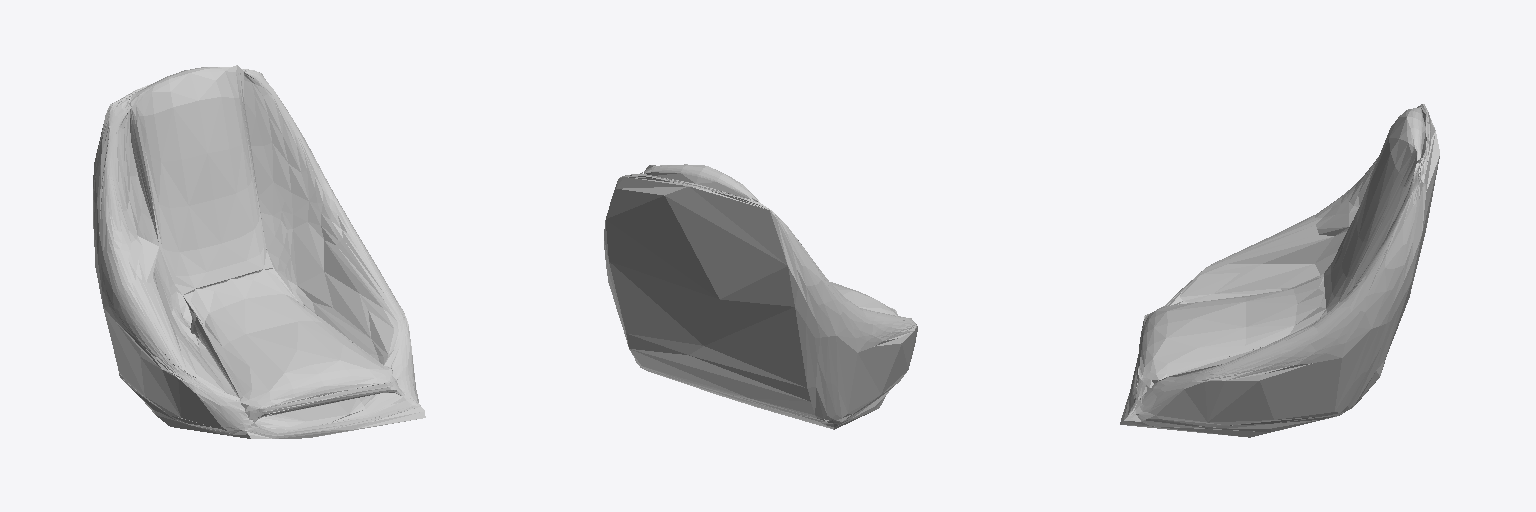
File: chair8.obj
3 views of the same model, side by side, from view 1: azimuth 30°, elevation 25°; view 2: azimuth 150°, elevation 25°; view 3: azimuth 270°, elevation 25° (orthographic).
Parts seen in each view (by area): view 1: Armchair8:Mesh; view 2: Armchair8:Mesh; view 3: Armchair8:Mesh.
Boxes of the visible parts, box(x1,y1,x2,y2) form: Armchair8:Mesh: box(93, 65, 425, 438); Armchair8:Mesh: box(604, 164, 917, 429); Armchair8:Mesh: box(1120, 104, 1439, 437).
Size of the model in its own units: 0.4472 by 0.47 by 0.4977.